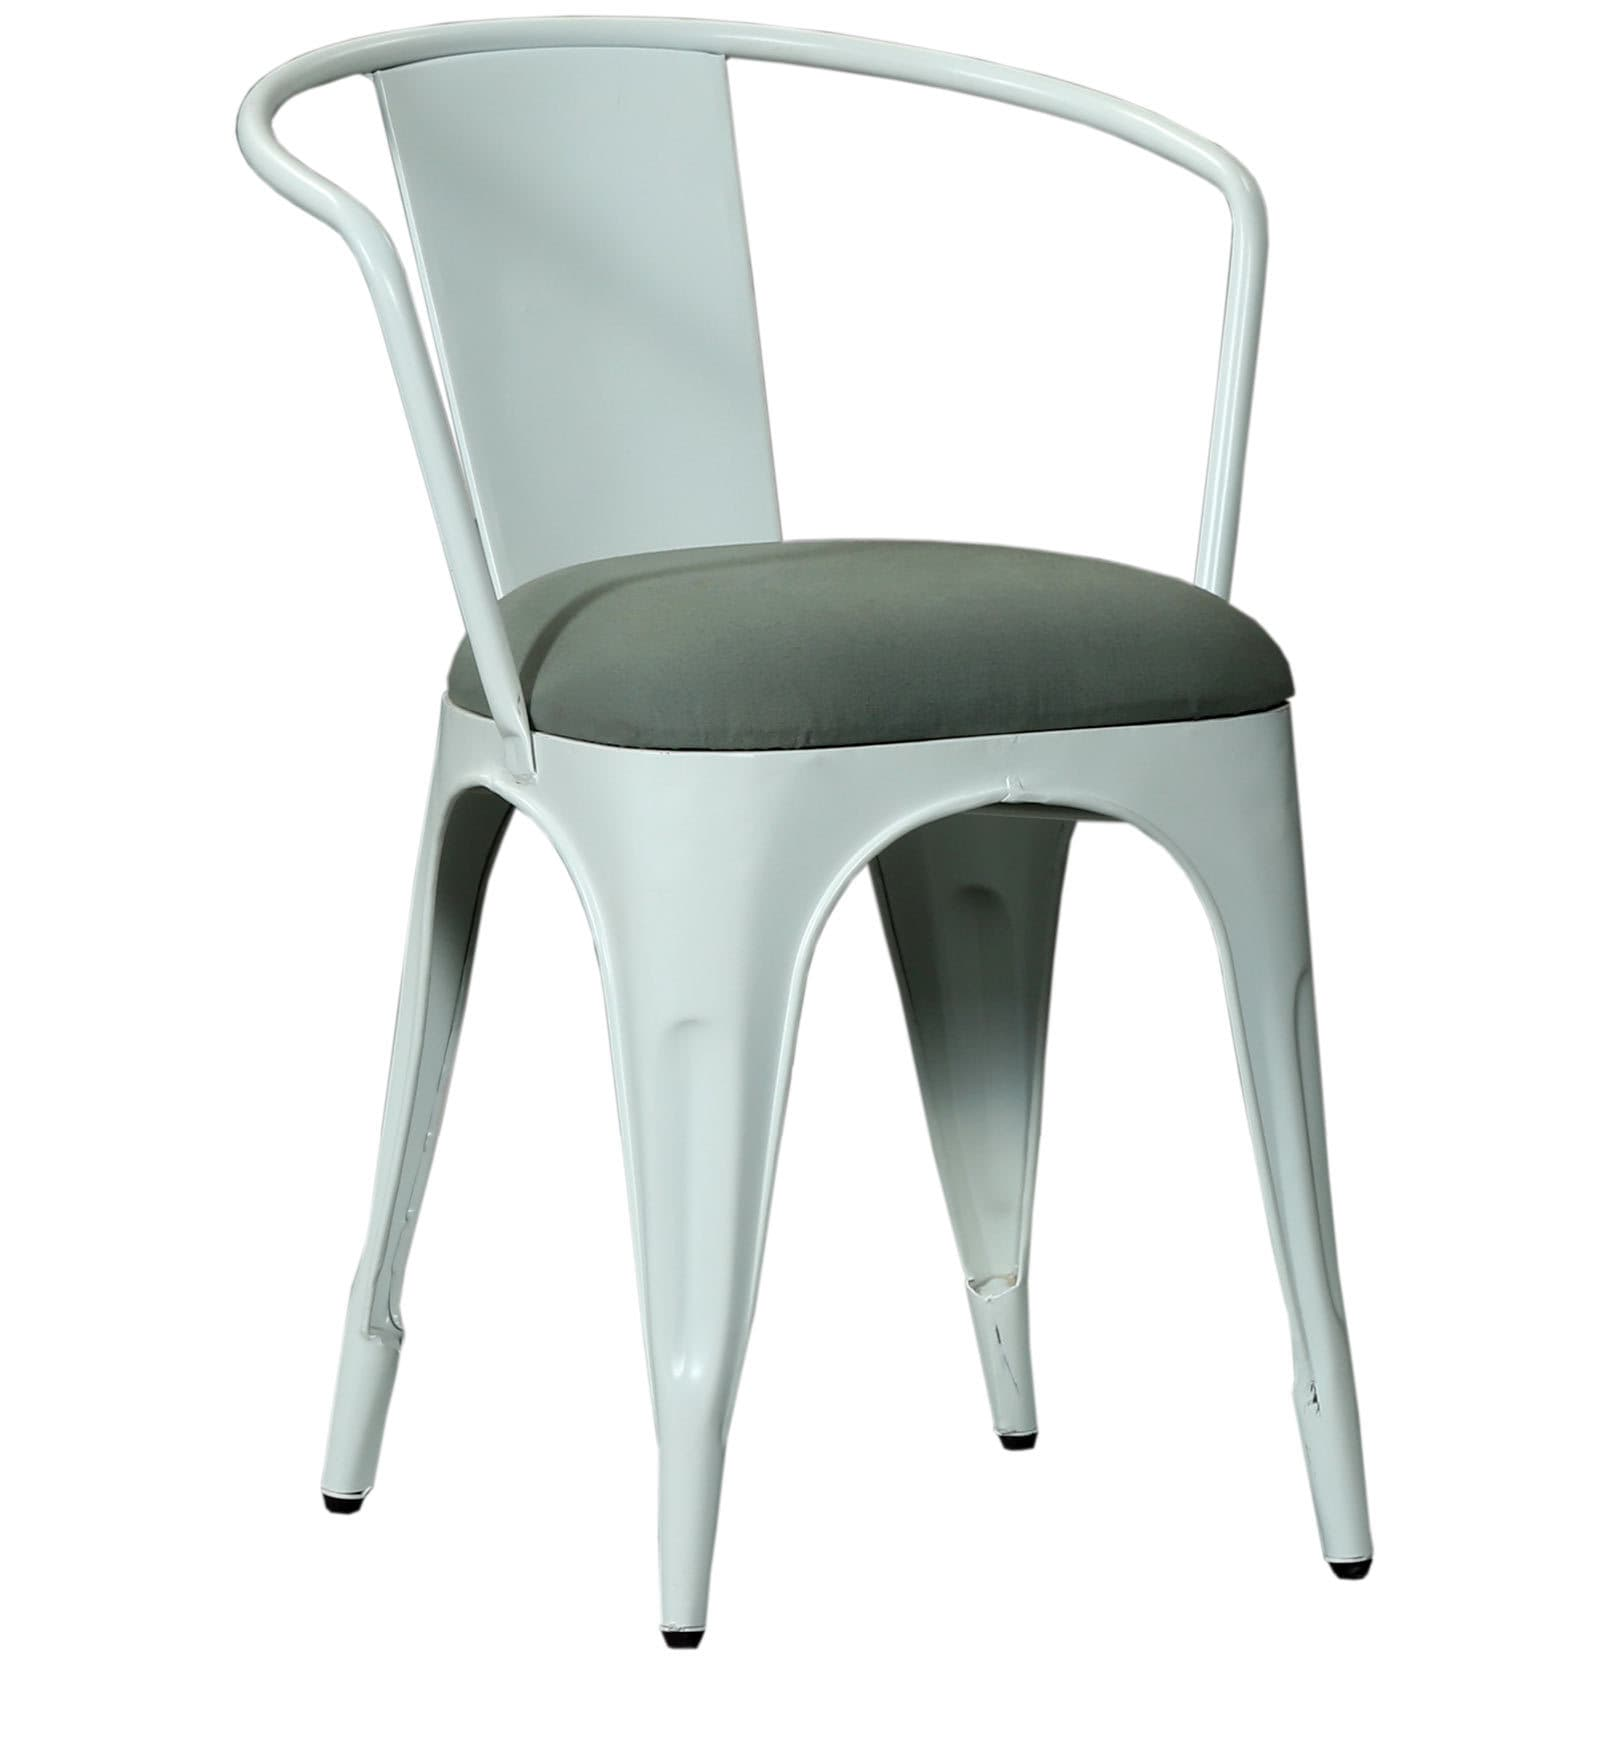Danlou Metal Chair with Cushion in White Colour by Bohemiana: (144, 9, 1476, 1650)
